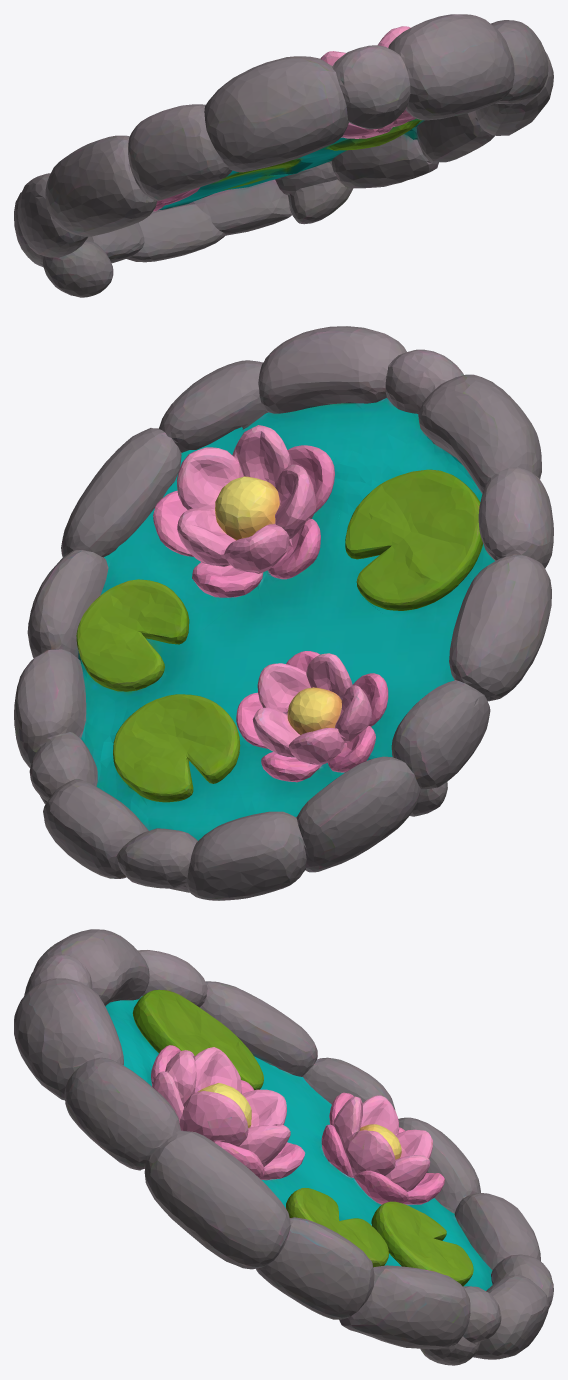
File: item_lotuspond.glb
3 views of the same model, one above another, from view 1: azimuth 30°, elevation 25°; view 2: azimuth 150°, elevation 25°; view 3: azimuth 270°, elevation 25° (orthographic). The views are drawn at different scales.
Visible parts, largest first — view 1: geometry_0; view 2: geometry_0; view 3: geometry_0.
Boxes of the visible parts, x1=… form: geometry_0: x1=14, y1=14, x2=553, y2=297; geometry_0: x1=14, y1=326, x2=553, y2=900; geometry_0: x1=14, y1=929, x2=553, y2=1365.
Bounding box in the file's own units: 0.8816 × 0.6938 × 0.9274.
Materials: 1 (1 with a texture image).
